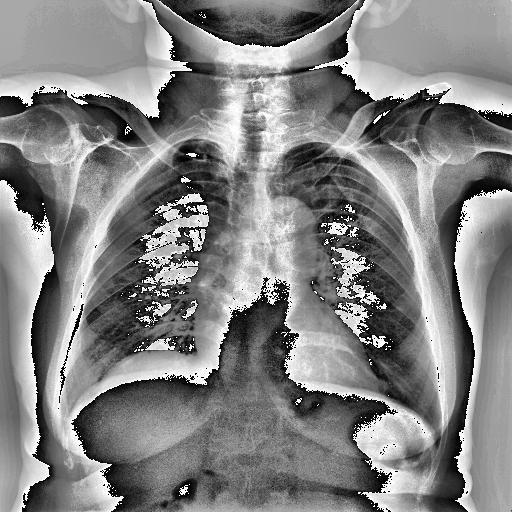0- Aortic enlargement: (264, 196, 316, 266), (255, 193, 316, 251), (258, 196, 316, 254)
9- Other lesion: (59, 348, 192, 422)
